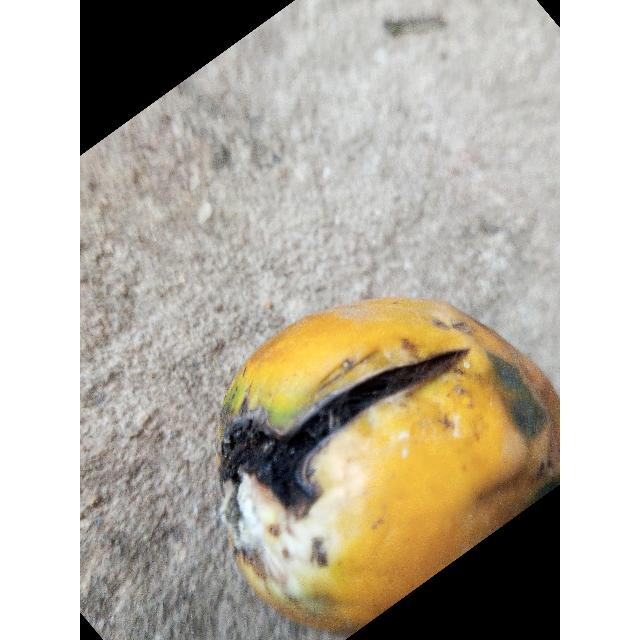damaged: (218, 297, 560, 640)
